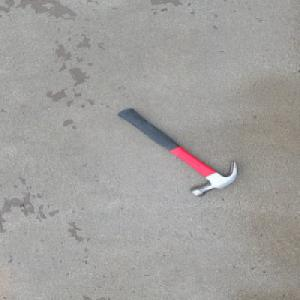Hammer: (114, 108, 239, 199)
